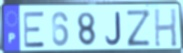6: (50, 11, 71, 48)
8: (75, 11, 98, 47)
E: (23, 11, 47, 50)
H: (153, 7, 178, 48)
J: (104, 11, 123, 47)
Z: (125, 9, 152, 48)
